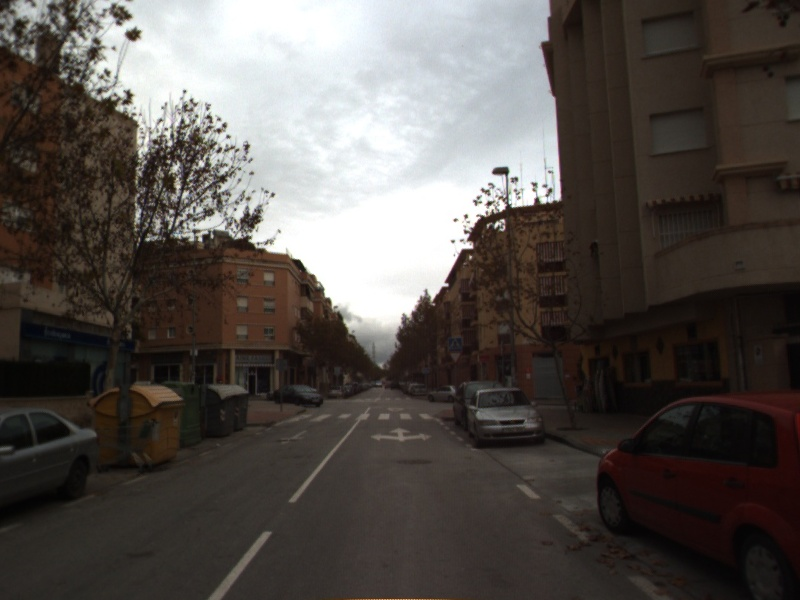STRAIGHT_LEFT_RIGHT: (369, 424, 435, 444)
